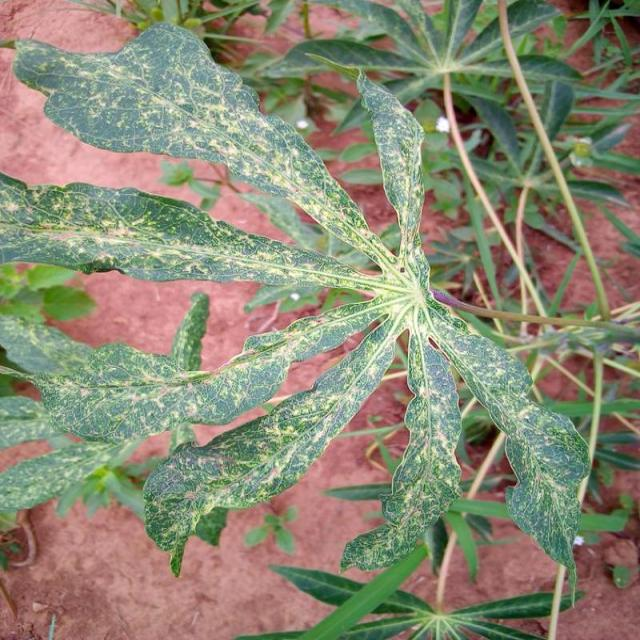cassava leaf: (1, 19, 594, 596)
